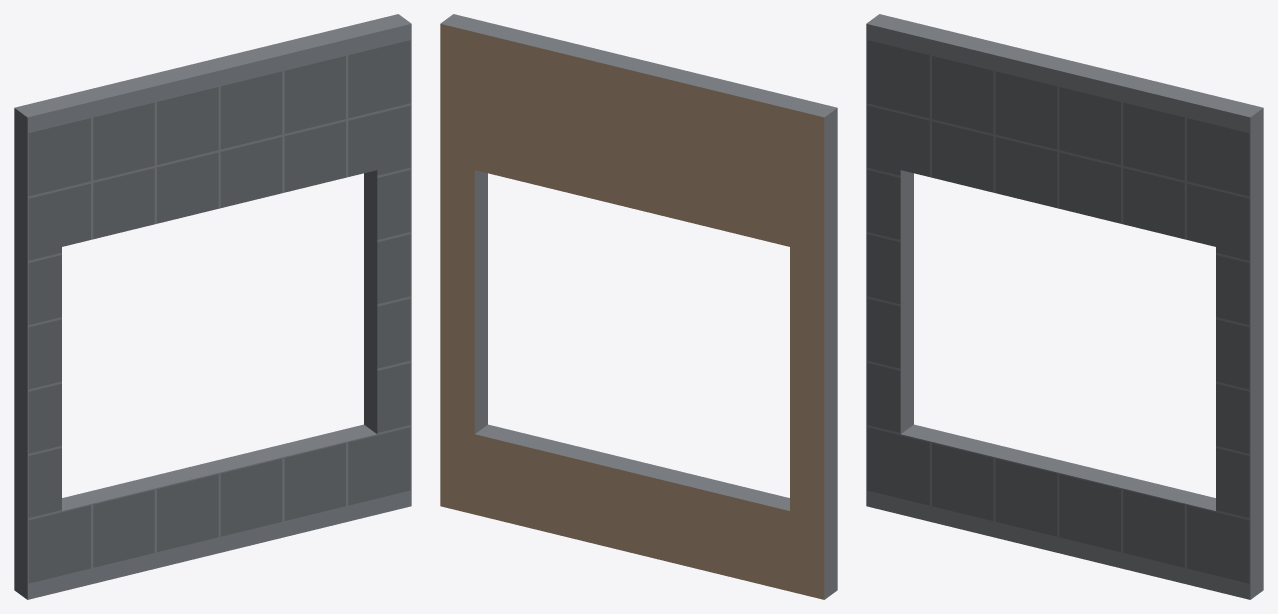
Rendered from Wall2_C7_05.fbx.
3 renders of one model, left to right at view 1: azimuth 30°, elevation 25°; view 2: azimuth 150°, elevation 25°; view 3: azimuth 330°, elevation 25°, orthographic.
Parts seen in each view (by area): view 1: Wall2_C7_05; view 2: Wall2_C7_05; view 3: Wall2_C7_05.
Boxes of the visible parts, box(x1,y1,x2,y2) form: Wall2_C7_05: box(14, 14, 411, 599); Wall2_C7_05: box(440, 14, 837, 599); Wall2_C7_05: box(866, 14, 1263, 599).
Size of the model in its own units: 250 by 300 by 15.
